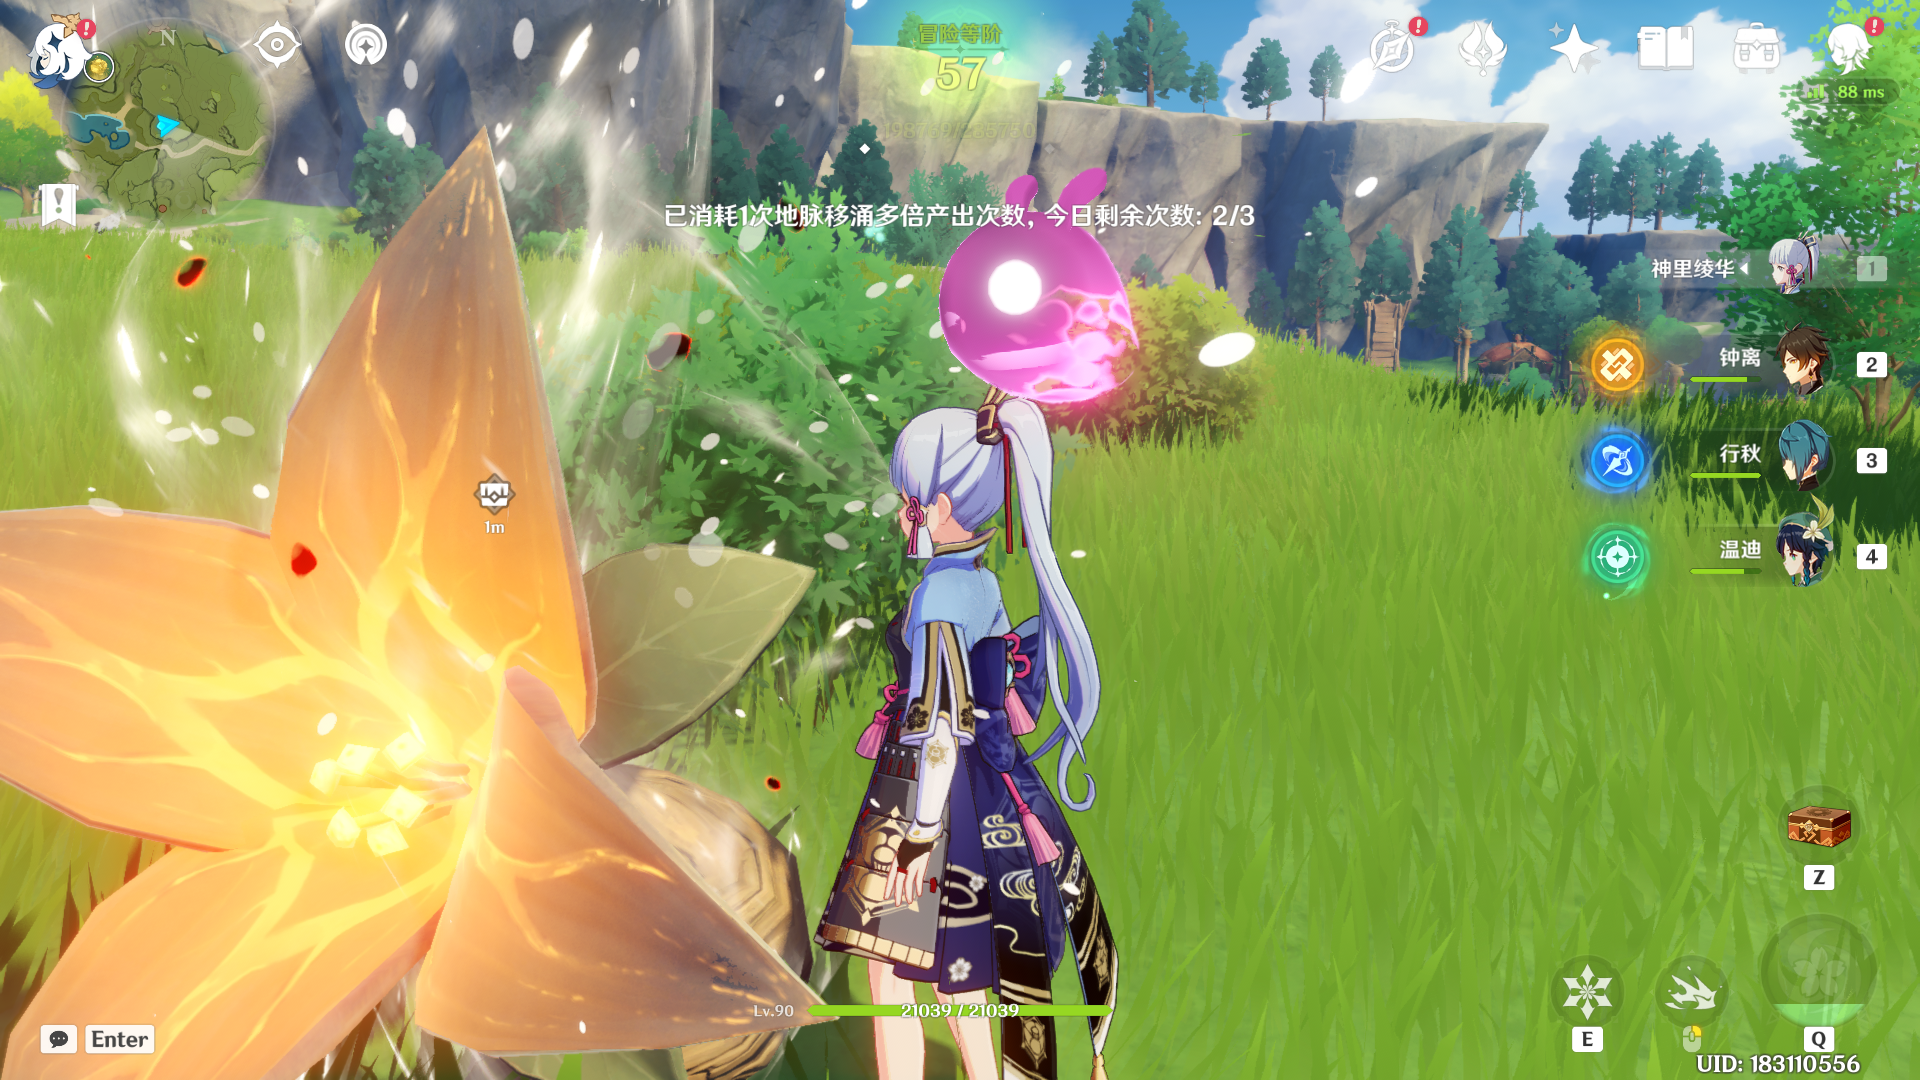character: (727, 324, 1193, 1080)
